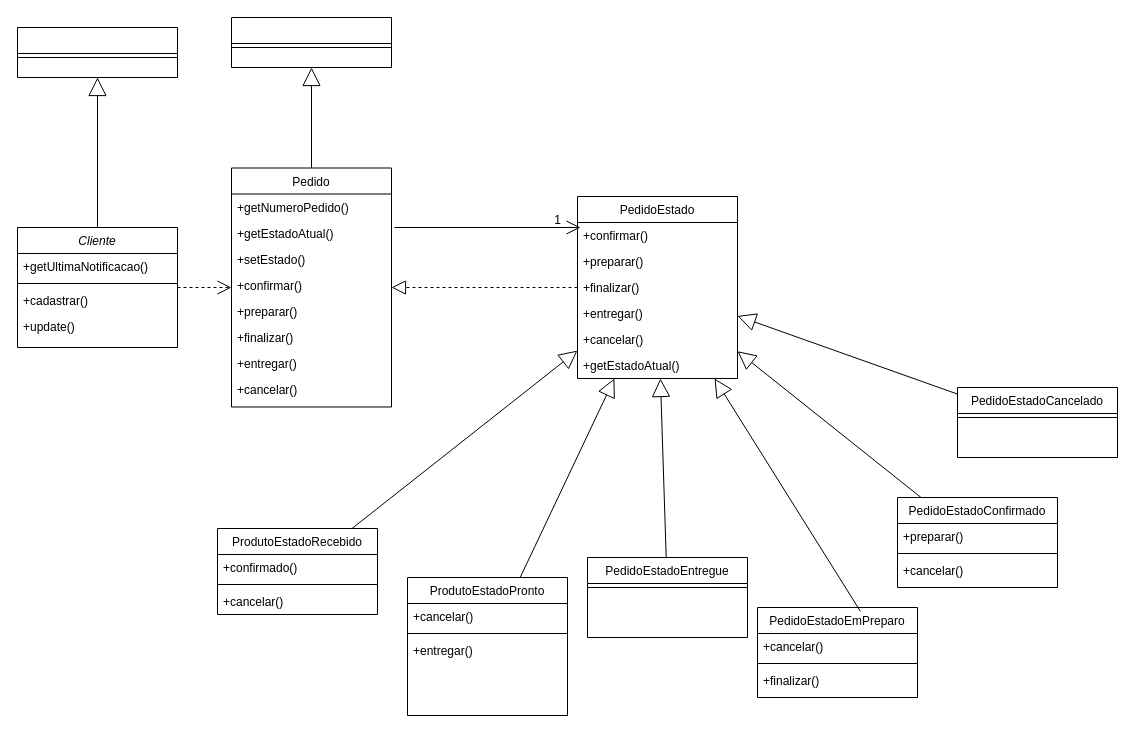
Some shapes in this 1135 by 733 pixel diagram are drawn without their labels. Each missing label, with the centre of its shape:
"Observable" belongs at [311,42].
"Observer" belongs at [97,52].
